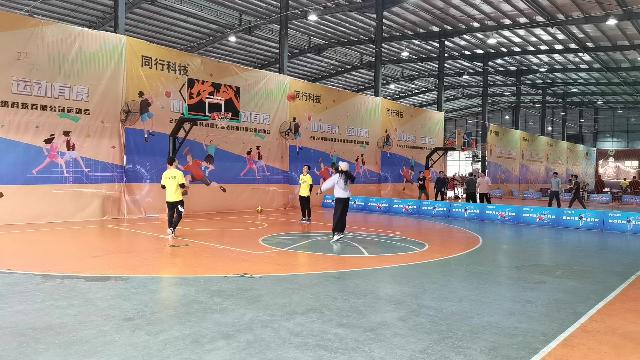ball: (286, 92, 296, 100), (255, 206, 262, 212)
basket: (213, 112, 231, 126)
